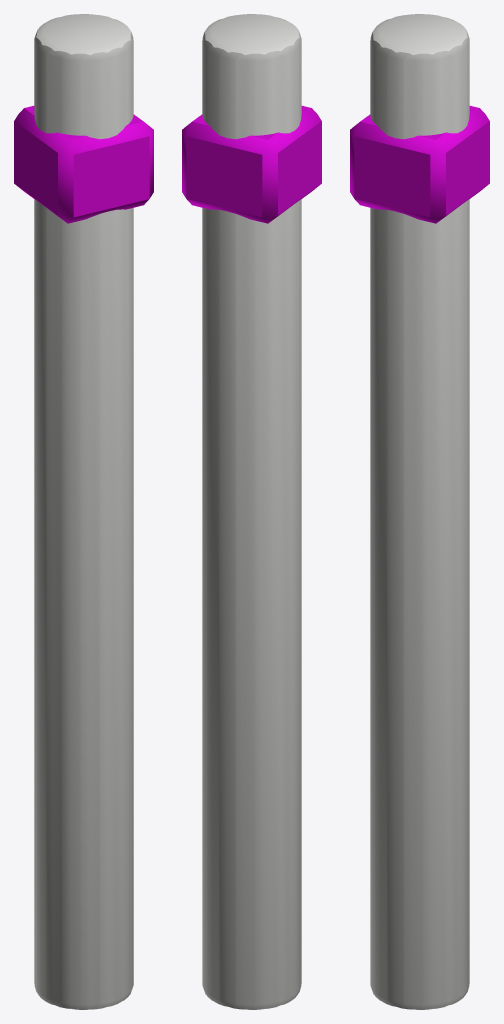
File: Prop_Column.fbx
3 views of the same model, side by side, from view 1: azimuth 30°, elevation 25°; view 2: azimuth 150°, elevation 25°; view 3: azimuth 330°, elevation 25° (orthographic).
Visible parts, largest first — view 1: Prop_Column; view 2: Prop_Column; view 3: Prop_Column.
Part boxes in pixels (x1,y1,x2,y2): Prop_Column: (14, 14, 153, 1009); Prop_Column: (182, 14, 321, 1009); Prop_Column: (350, 14, 489, 1009).
Bounding box in the file's own units: 0.48 × 4.6 × 0.48.
